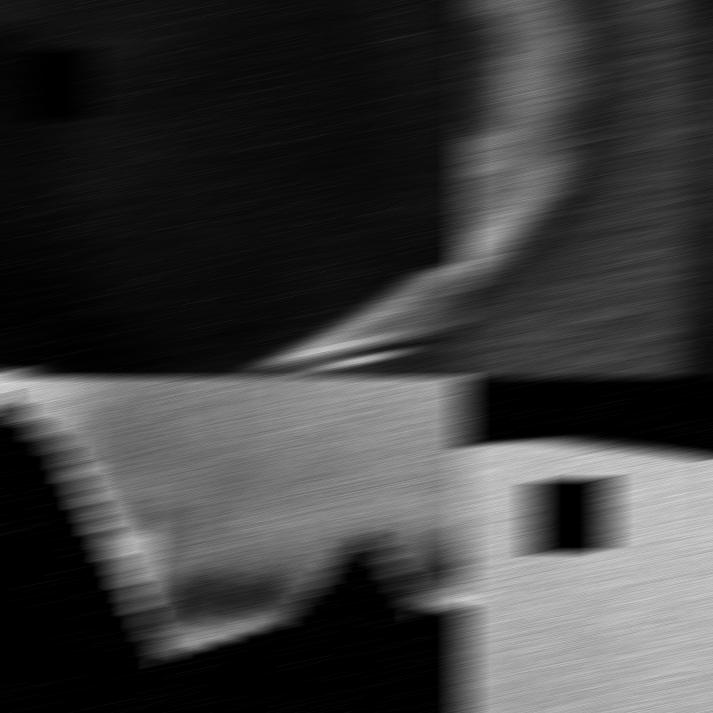Airbag: (0, 1, 469, 376), (456, 1, 713, 376), (456, 439, 713, 712)
